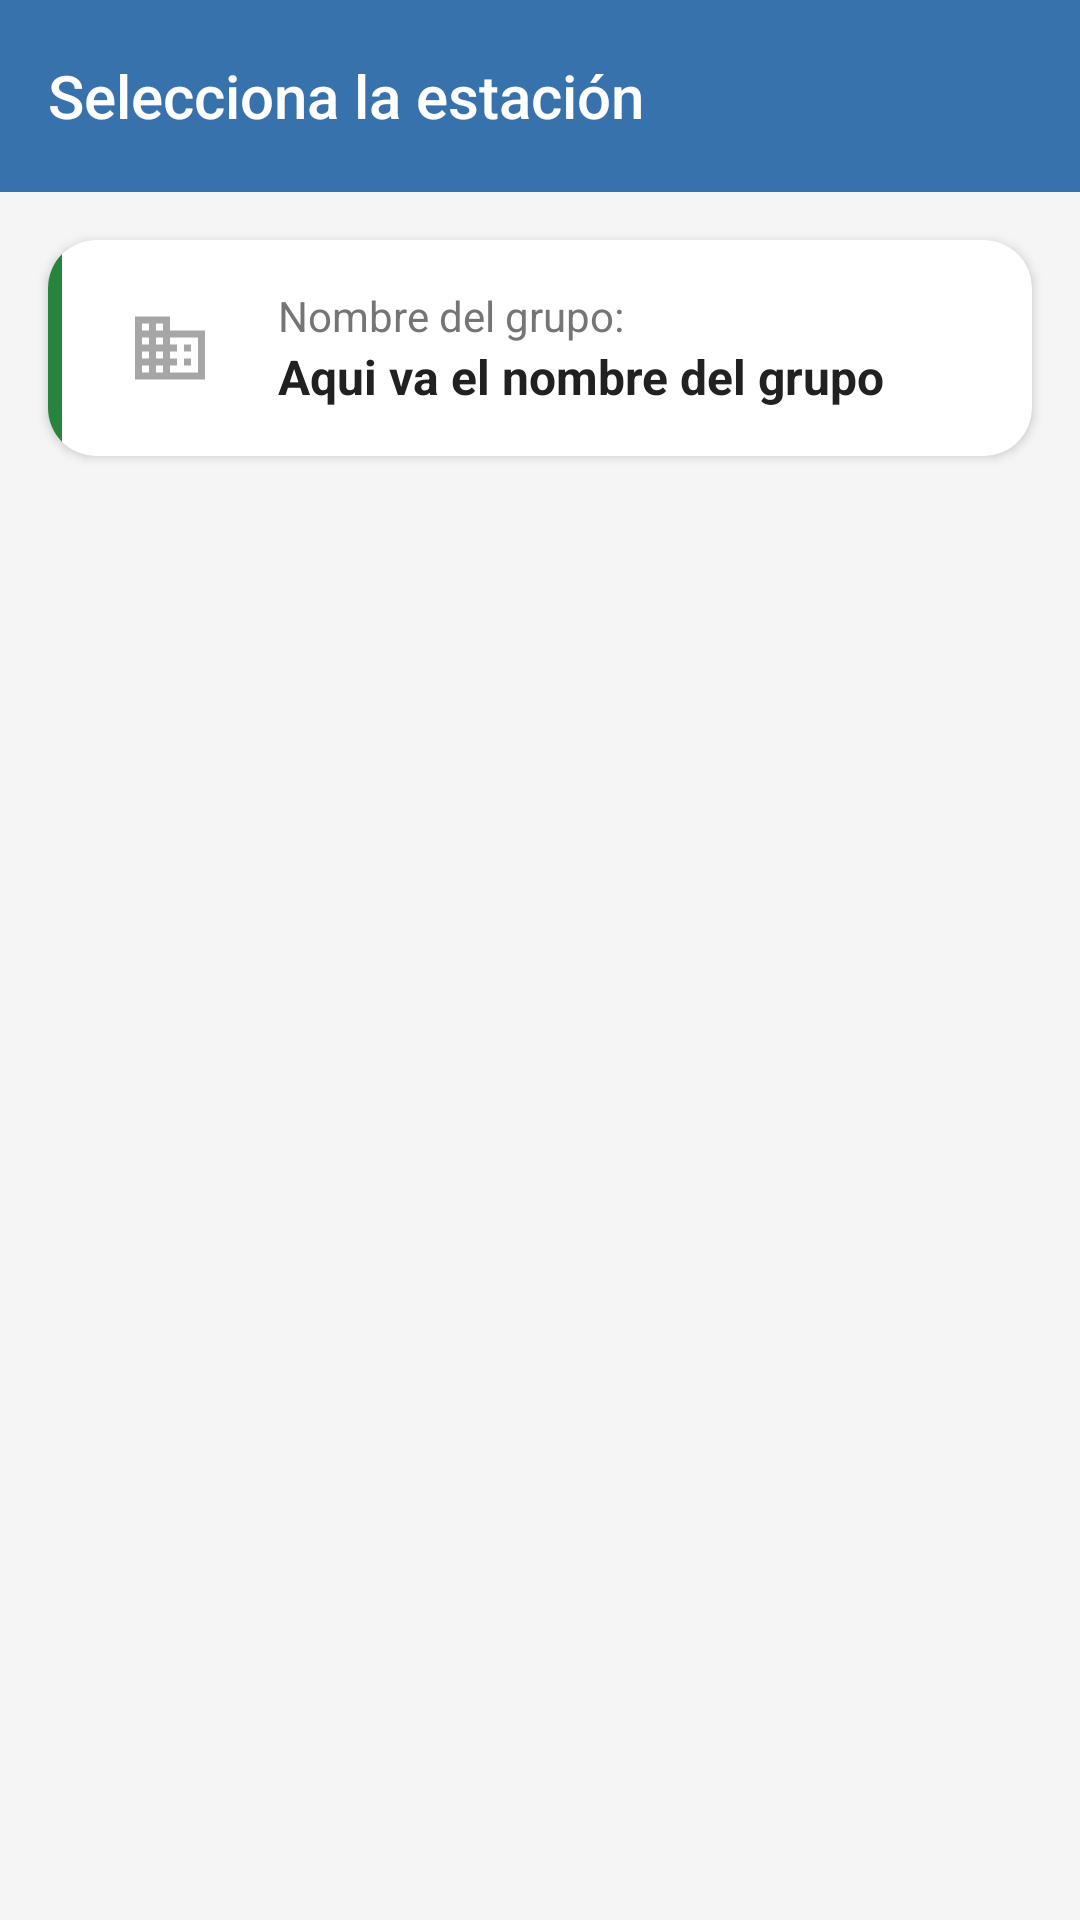

Named icons in this screenshot (1080x1920) and their bounding boxes, [x1,y1,x2,y2]:
business: [135,316,205,380]
